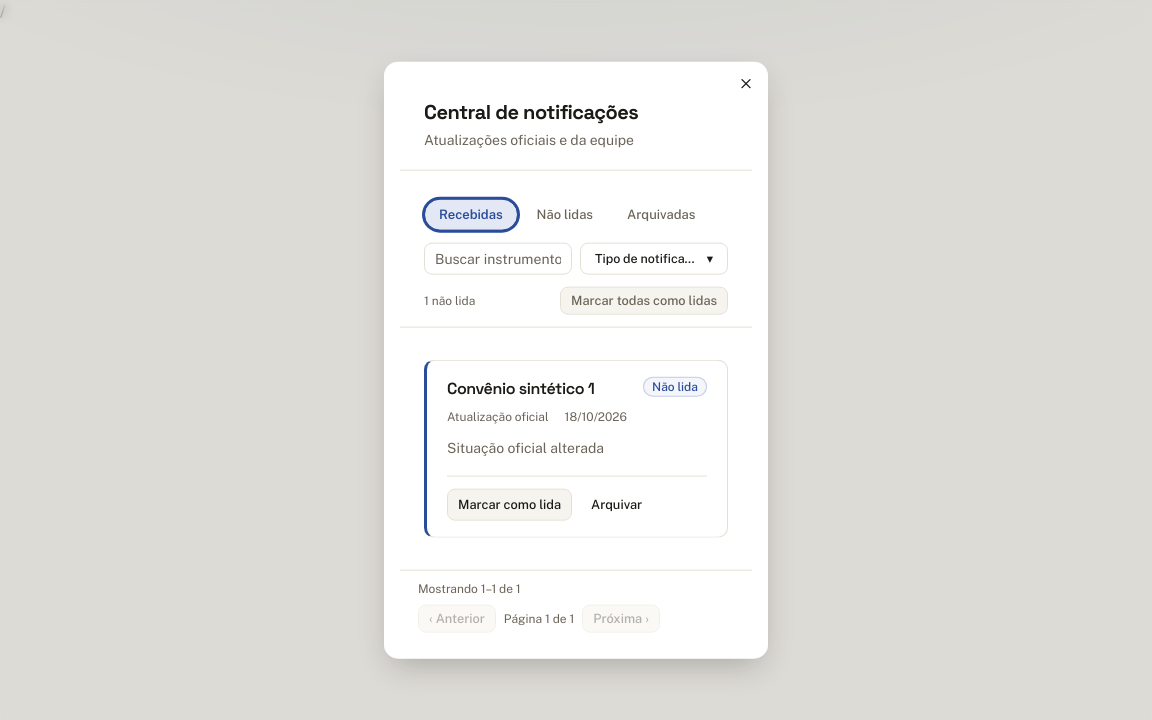
Test: Central de notificações integrada à API › arquiva e restaura após confirmação do servidor
Click the button "Arquivar" at (617, 504), box [580,488,653,520]
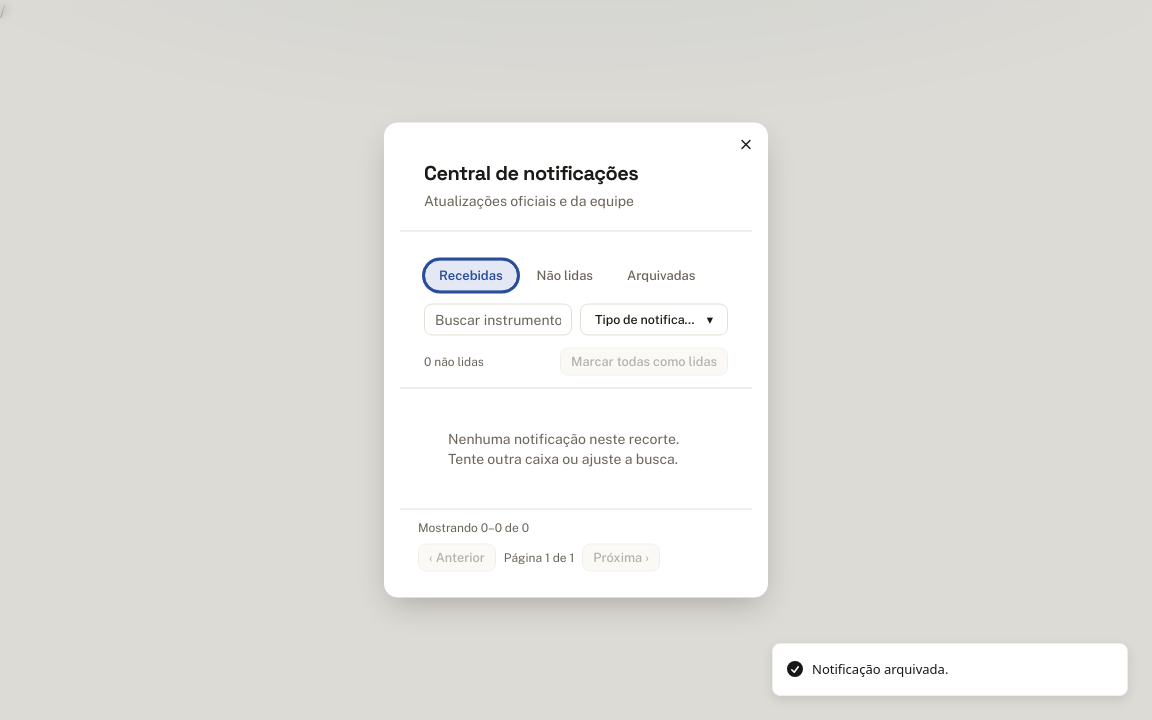
Expected: the text "Nenhuma notificação neste recorte" is shown, [448,430,679,466]
Click the button "Arquivadas" at (661, 276), box [612,260,710,292]
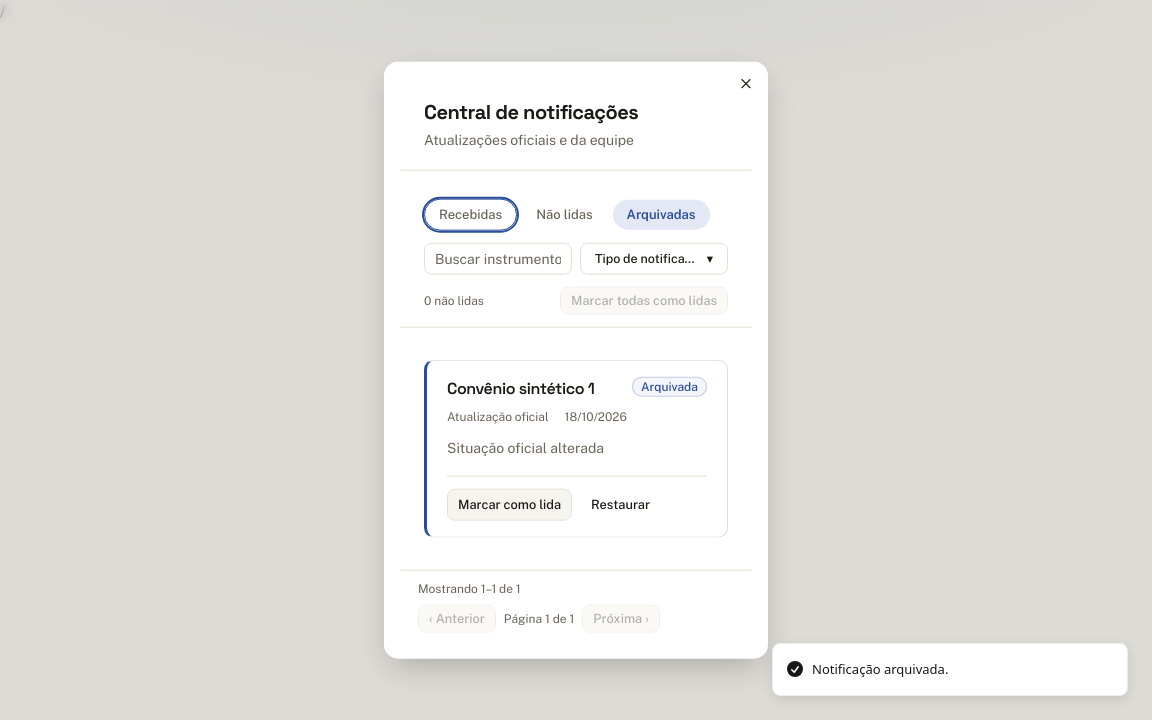
Click the button "Restaurar" at (621, 504), box [580,488,661,520]
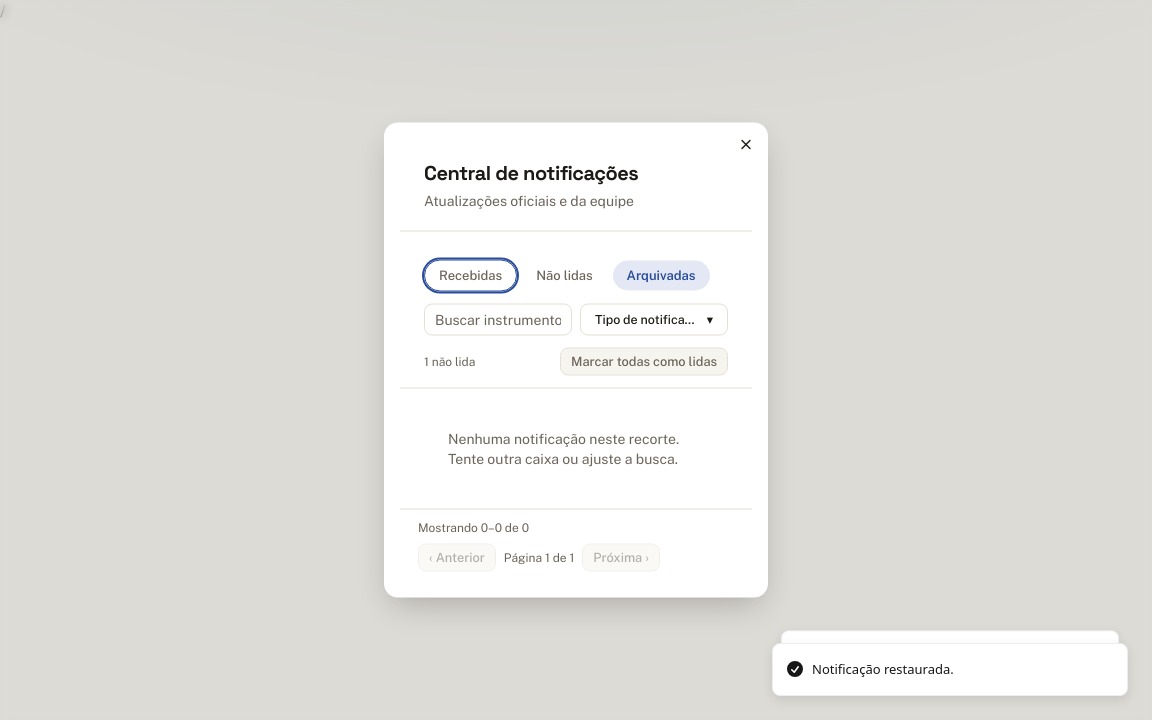
Expected: the text "Nenhuma notificação neste recorte" is shown, [448,430,679,466]
Click the button "Recebidas" at (471, 276), box [424,260,517,292]
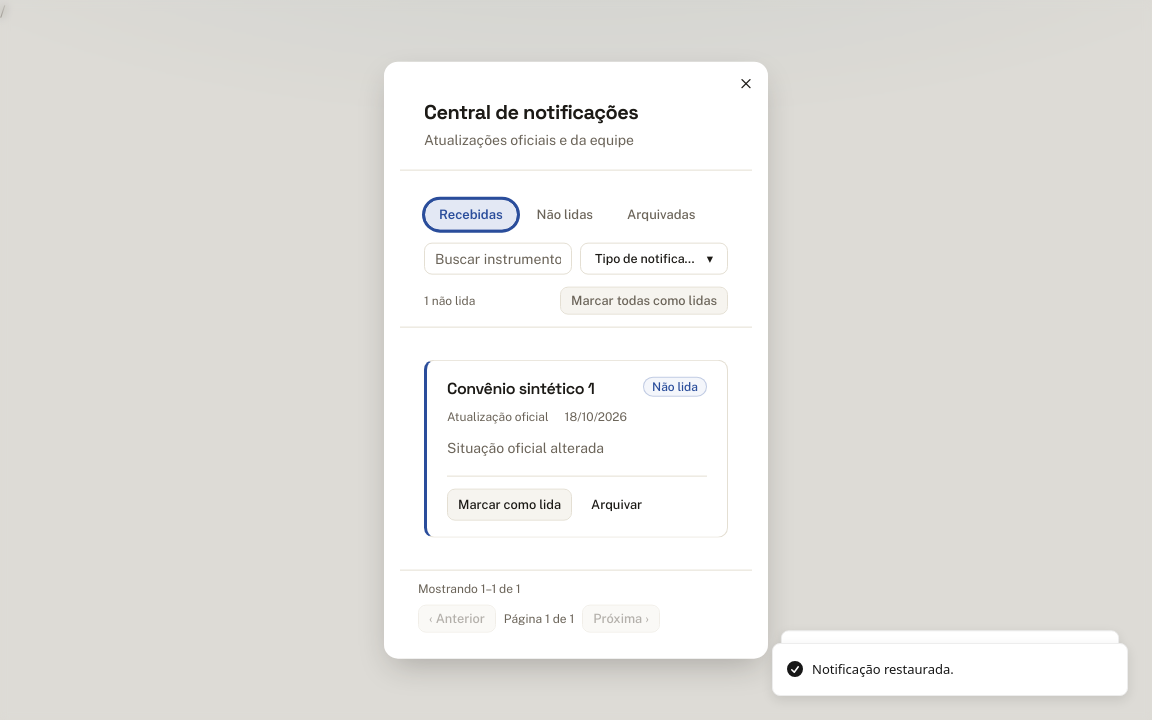
Expected: the heading "Convênio sintético 1" is shown, [447,378,594,399]
